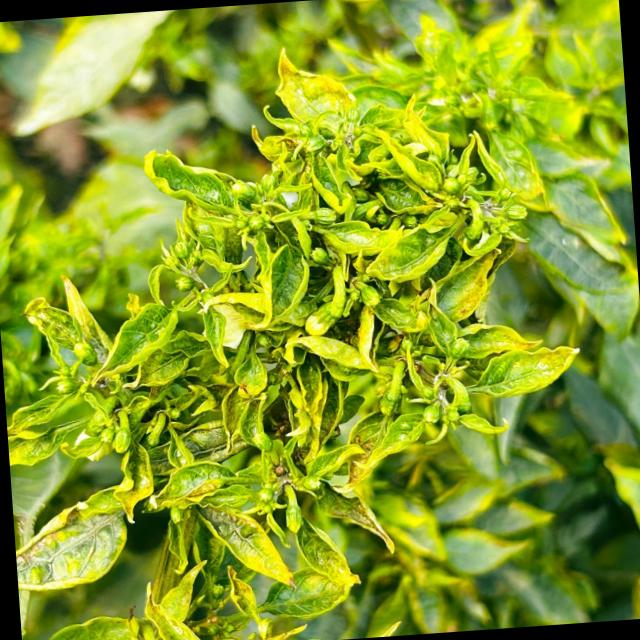Chilli_Leaf_Curl: (0, 25, 599, 640)
